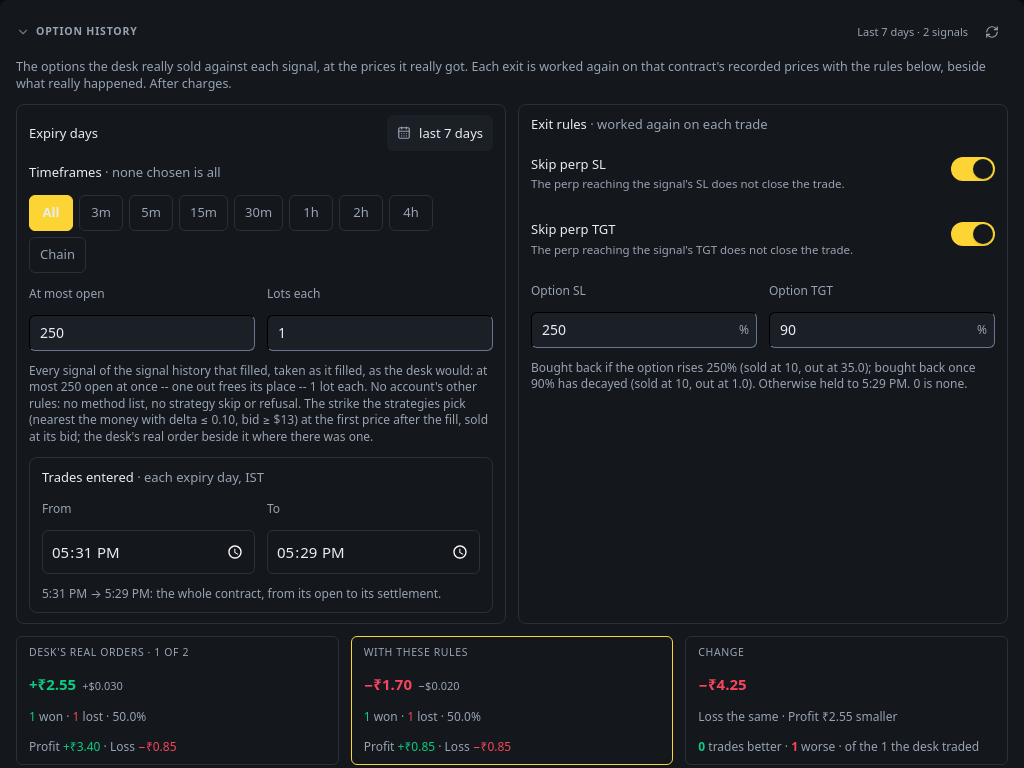
Option history › a rule that cannot be replayed says why and asks for nothing
This screenshot has width=1024, height=768.
Expected: the text "With these rules" is shown, [364, 645, 468, 659]
Replace the text in the field named "Option TGT, per cent of the price sold" with "100" at (882,330), box [769, 312, 995, 348]
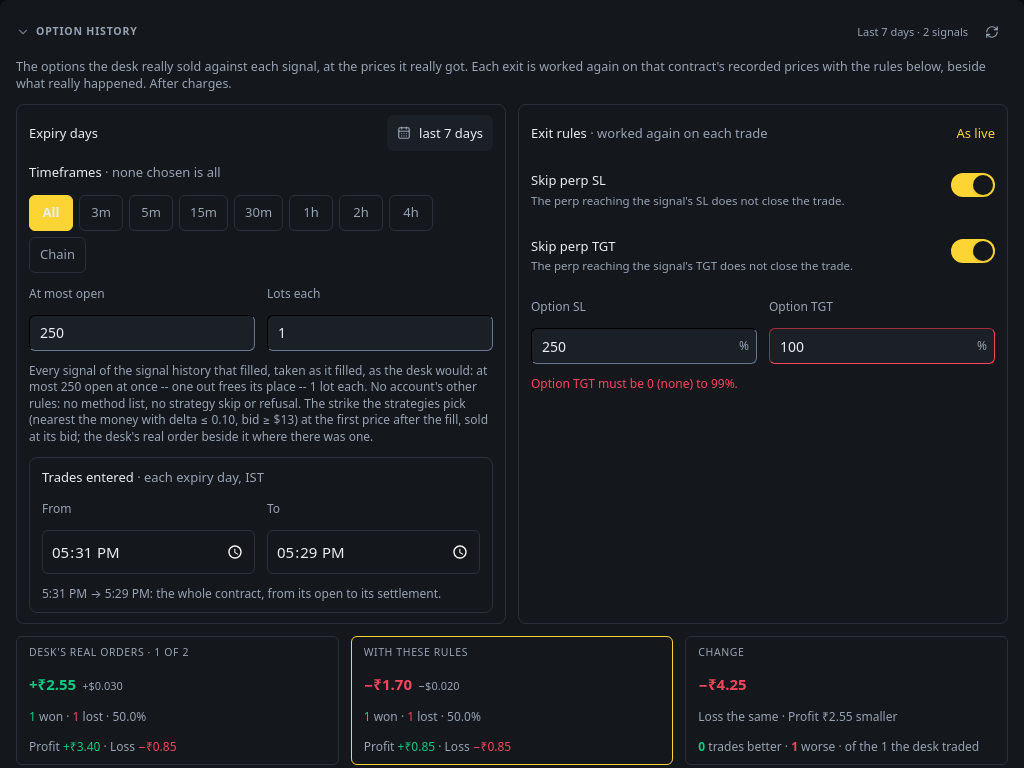
Expected: the text "Option TGT must be 0 (none) to 99%." is shown, [531, 375, 738, 392]
